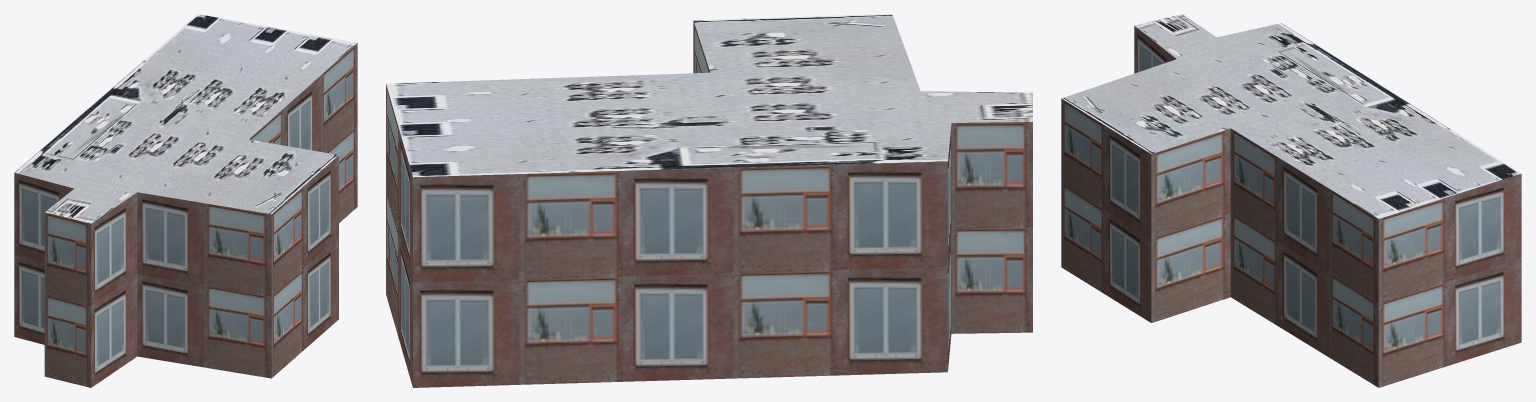
The model's file is ResTex__1592.fbx.
3 renders of one model, left to right at view 1: azimuth 30°, elevation 25°; view 2: azimuth 150°, elevation 25°; view 3: azimuth 270°, elevation 25°, orthographic. The views are drawn at different scales.
Visible parts, largest first — view 1: CityEngineMaterial_19_m, CityEngineMaterial_15_m; view 2: CityEngineMaterial_19_m, CityEngineMaterial_15_m; view 3: CityEngineMaterial_19_m, CityEngineMaterial_15_m.
Part boxes in pixels (<box>): CityEngineMaterial_19_m: <box>14,43,357,387</box>; CityEngineMaterial_15_m: <box>15,14,356,223</box>; CityEngineMaterial_19_m: <box>386,20,1032,387</box>; CityEngineMaterial_15_m: <box>386,14,1032,177</box>; CityEngineMaterial_19_m: <box>1061,26,1521,387</box>; CityEngineMaterial_15_m: <box>1062,14,1520,218</box>.
Bounding box in the file's own units: 15.62 × 6 × 14.81.
Materials: 2 (2 with a texture image).
